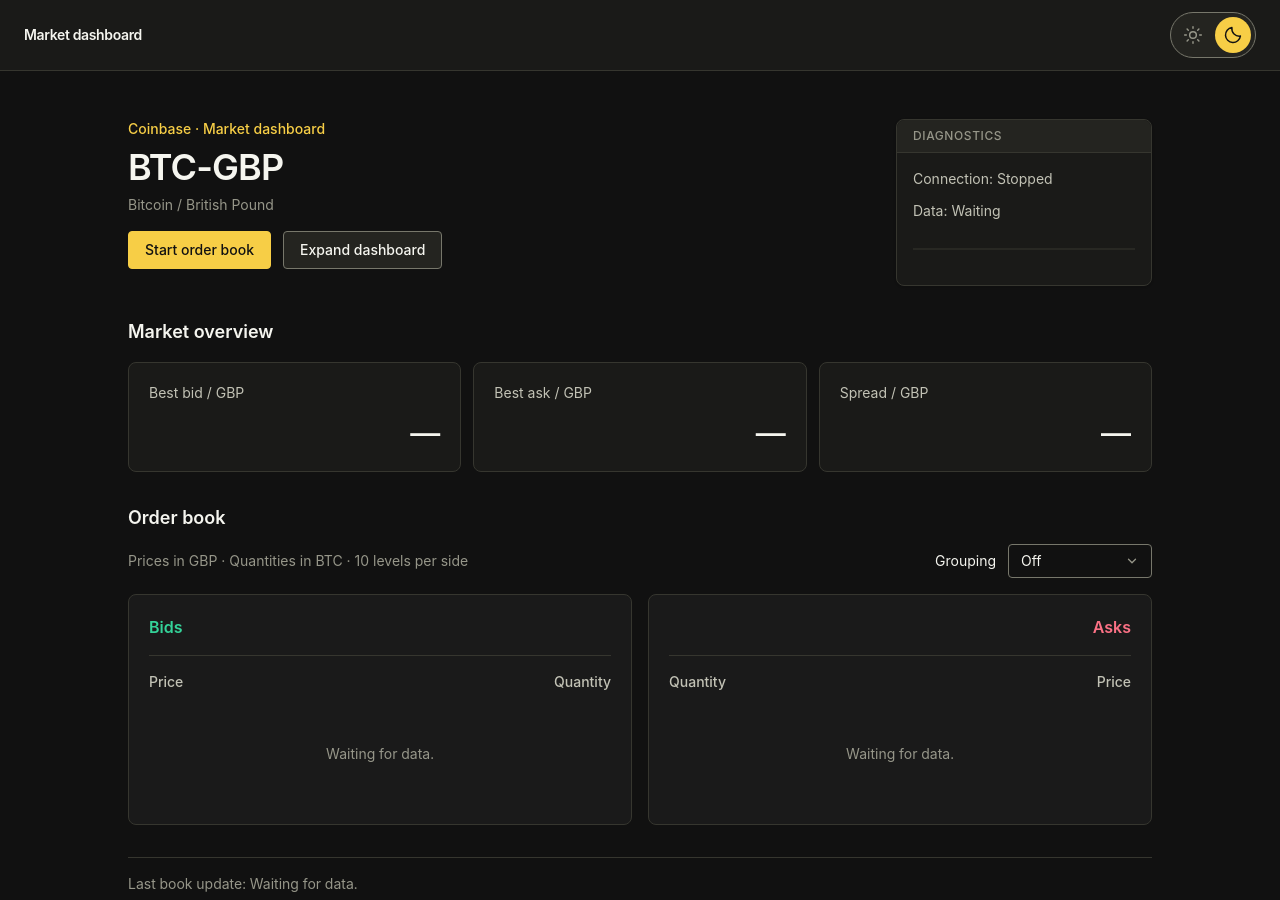
Test: dashboard acceptance flows › replaces a live snapshot completely and describes an empty side as unavailable
The image size is (1280, 900).
Step 1. Click the button "Start order book" → [200, 250], box [128,231,271,269]
Wait 500 ms
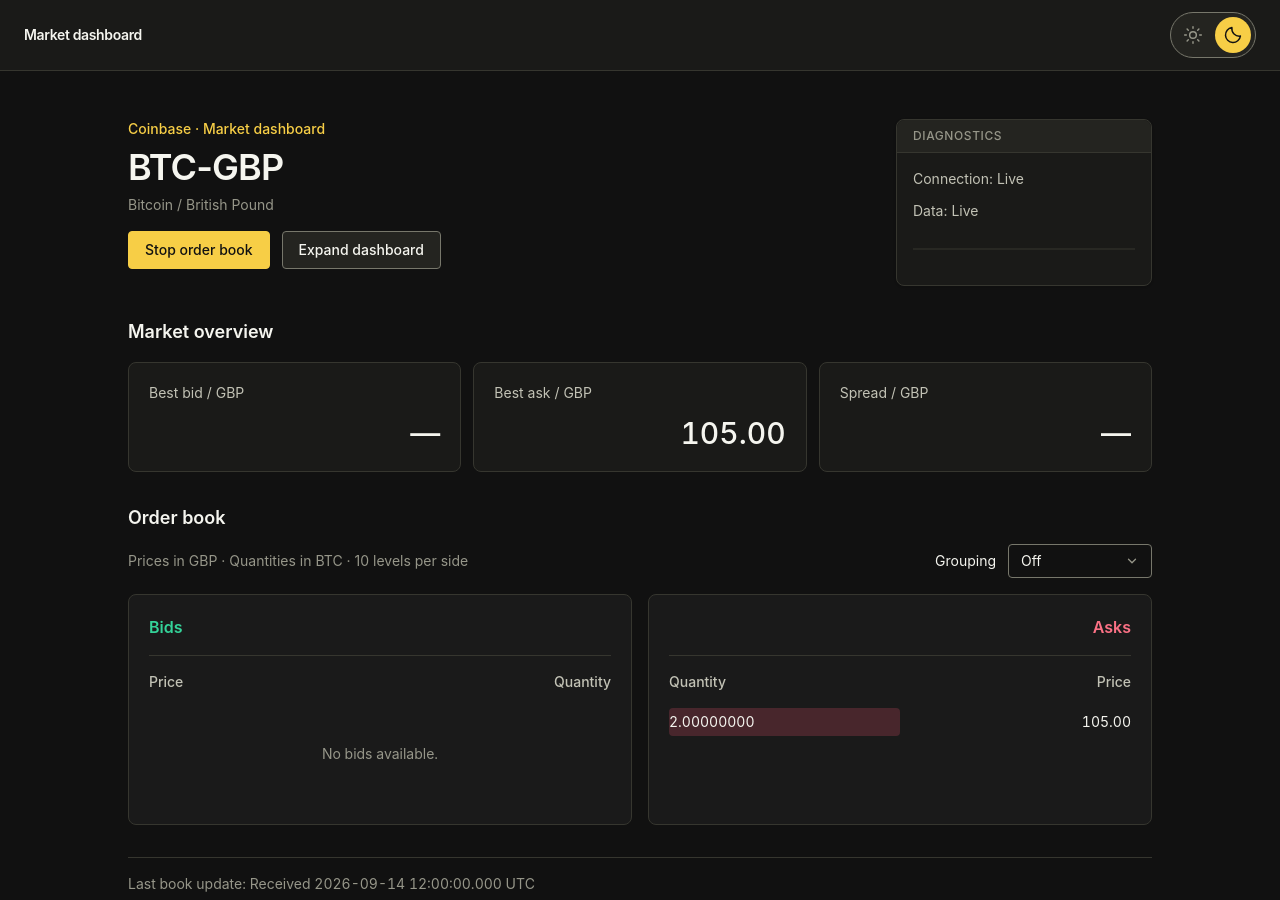
Now the text "Data: Waiting" is gone
